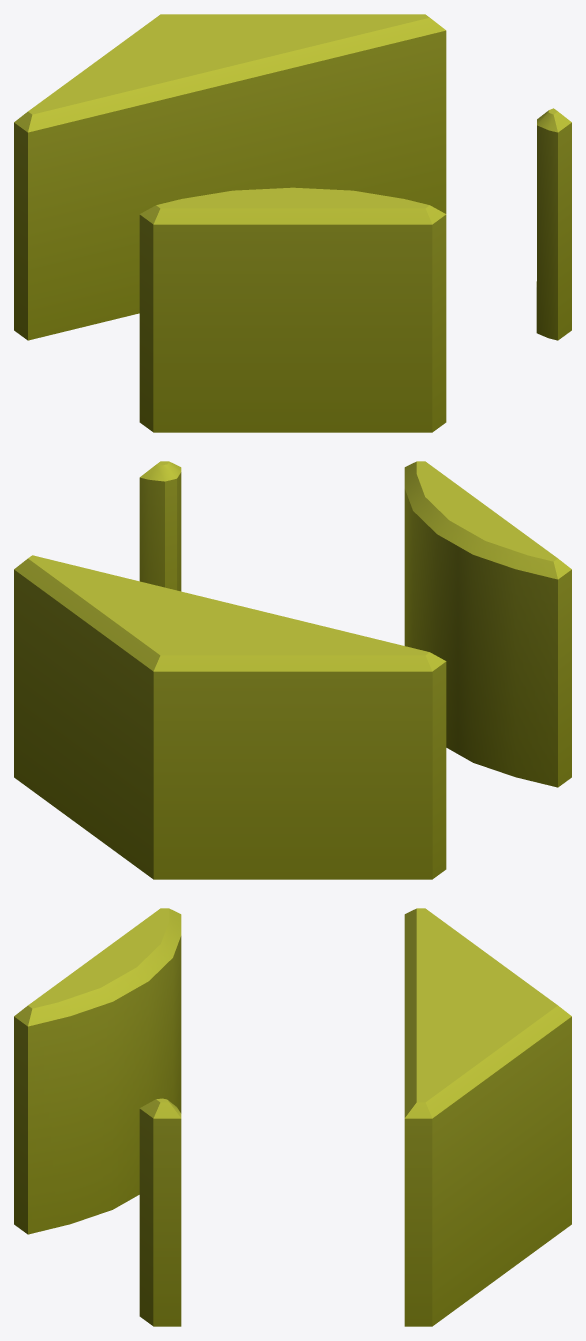
Rendered from hex_river_F_waterless.glb.
3 renders of one model, top to bottom at view 1: azimuth 30°, elevation 25°; view 2: azimuth 150°, elevation 25°; view 3: azimuth 270°, elevation 25°, orthographic.
Visible parts, largest first — view 1: hex_river_F_waterless; view 2: hex_river_F_waterless; view 3: hex_river_F_waterless.
Boxes of the visible parts, bbox=[...] form: hex_river_F_waterless: bbox=[14, 14, 571, 432]; hex_river_F_waterless: bbox=[14, 461, 571, 879]; hex_river_F_waterless: bbox=[14, 908, 571, 1326].
Bounding box in the file's own units: 2 × 1 × 2.31.
1 material, 1 textured.
